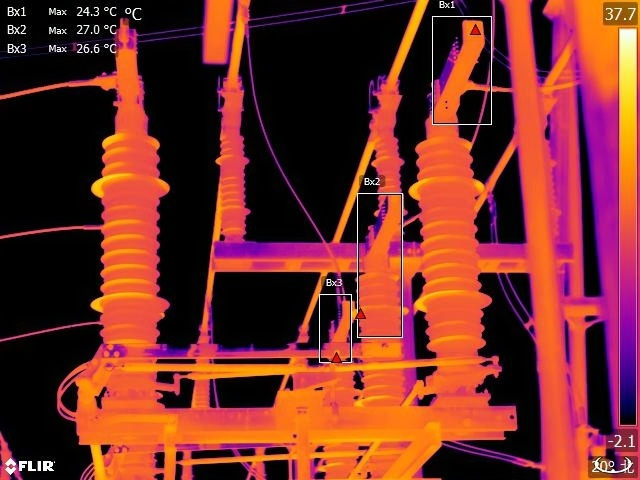switch: (409, 132, 499, 360), (89, 120, 176, 346), (418, 11, 498, 139), (348, 271, 408, 407), (351, 192, 406, 280), (324, 367, 361, 480), (214, 136, 254, 239), (372, 136, 404, 224), (319, 292, 363, 356), (186, 369, 221, 413)
